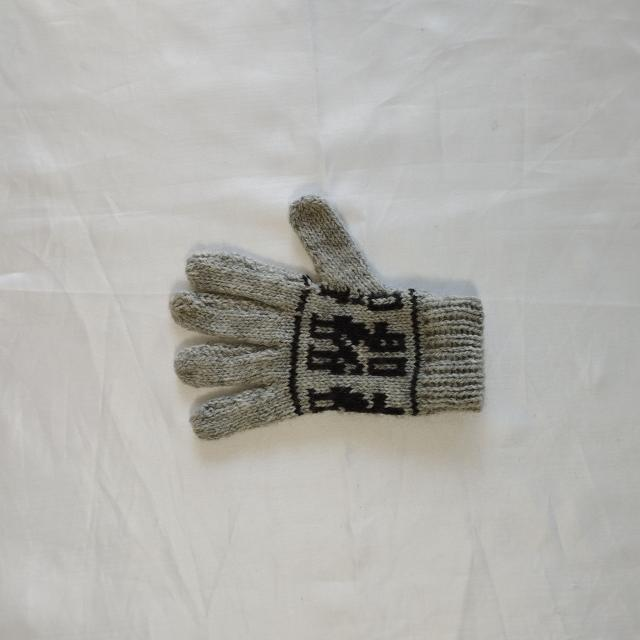Guante: (169, 194, 486, 442)
